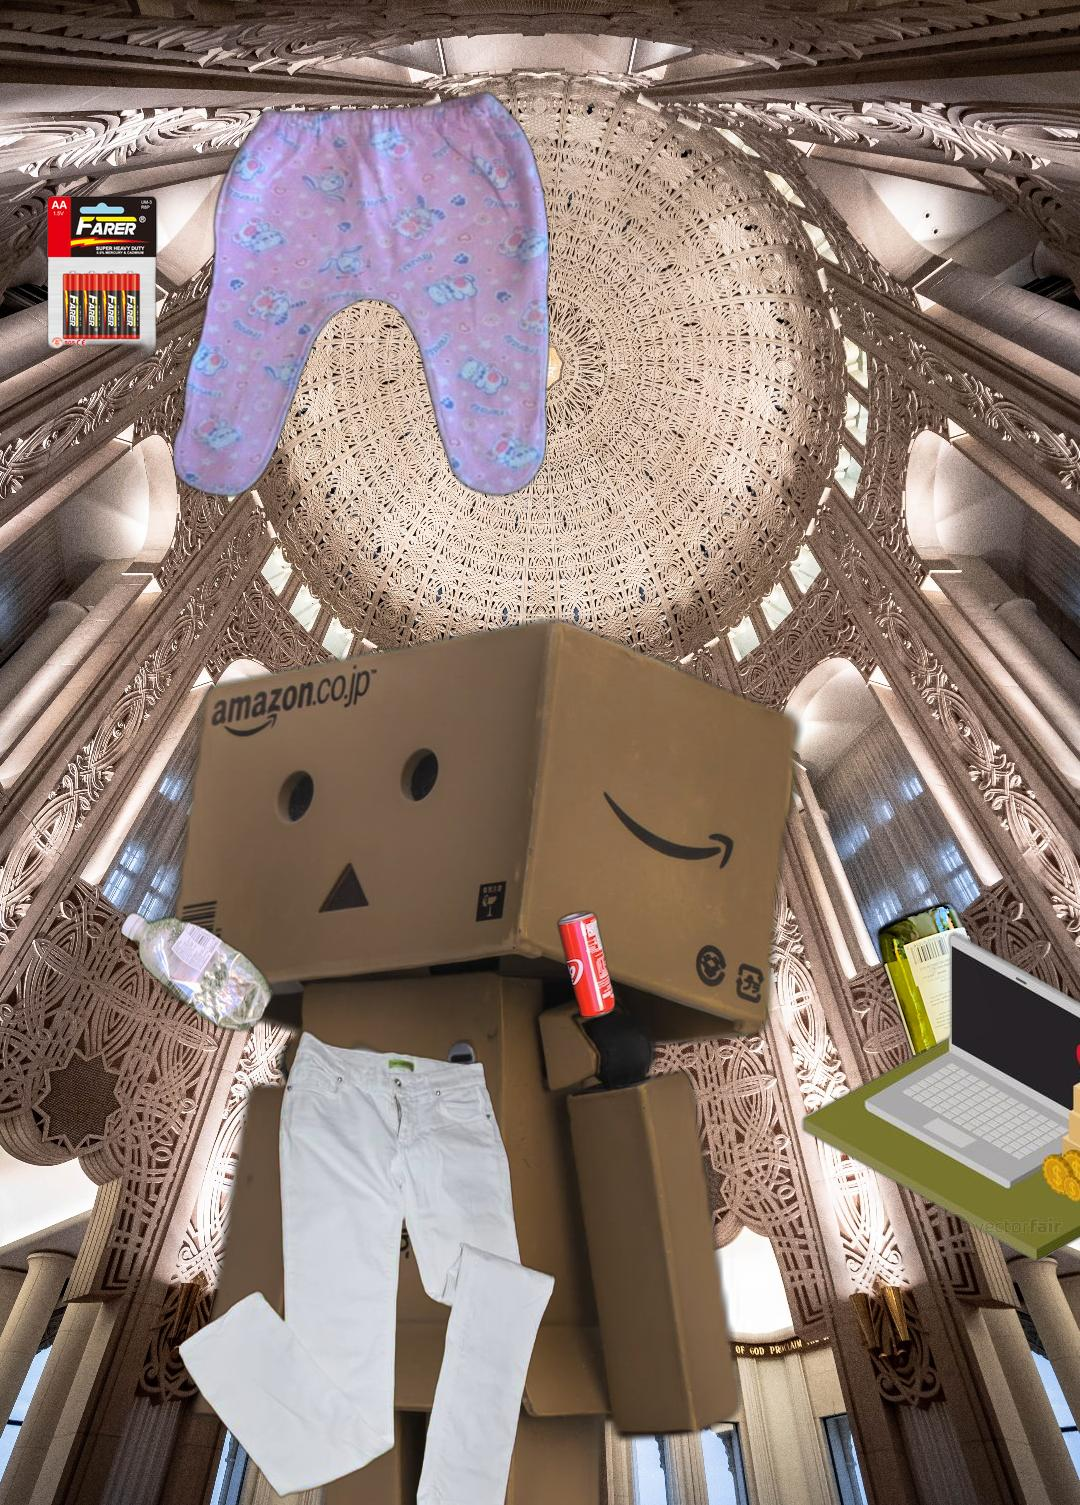battery: (44, 193, 161, 379)
clothes: (179, 1025, 558, 1505), (172, 86, 552, 502)
glass: (872, 897, 1033, 1229)
metal-cans: (554, 906, 619, 1024)
plastic-bottles: (117, 906, 278, 1036)
trashbox-cardboard: (148, 611, 818, 1505), (797, 927, 1080, 1267)
